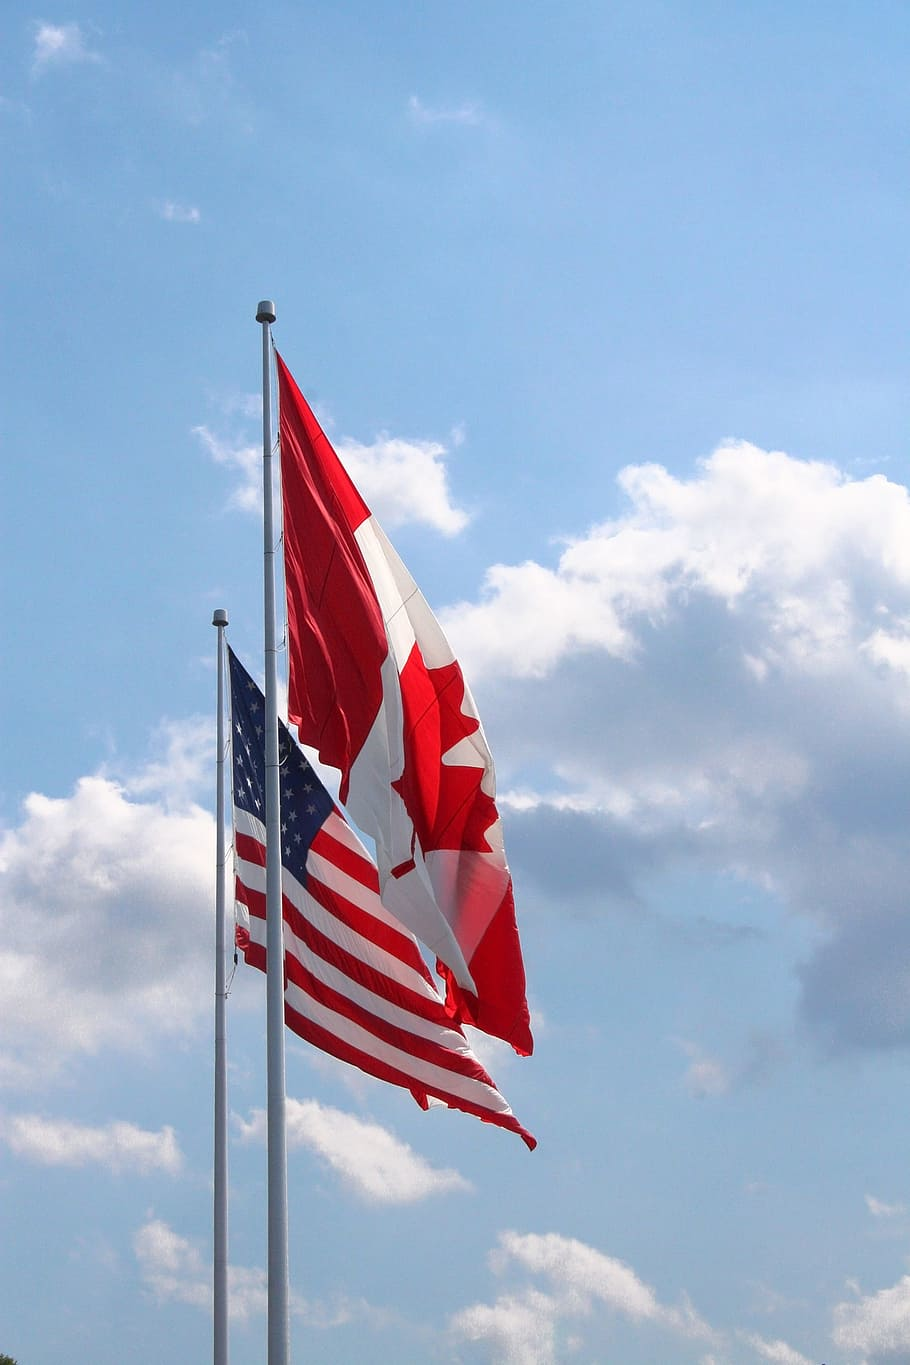America flag: (221, 660, 539, 1164)
Canada flag: (272, 352, 563, 1060)
